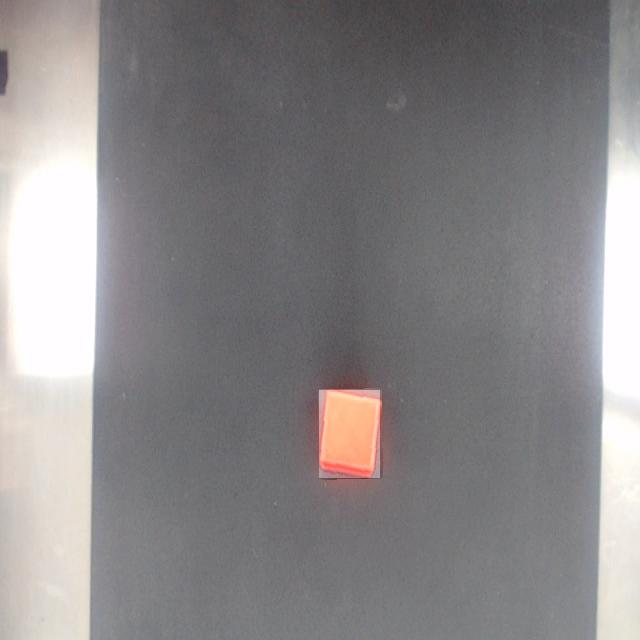Rojo: (319, 390, 380, 478)
